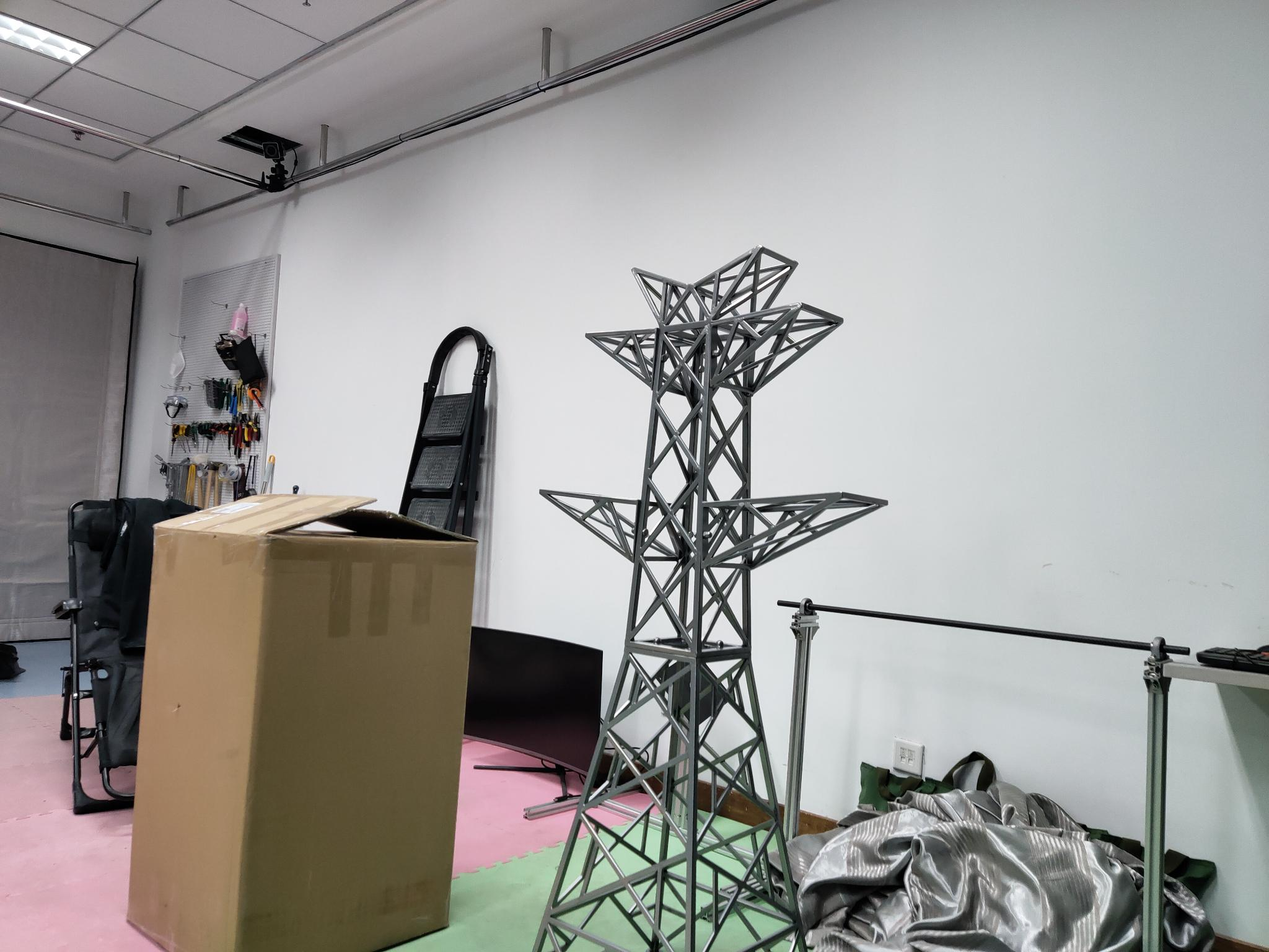tower: (539, 246, 859, 952)
